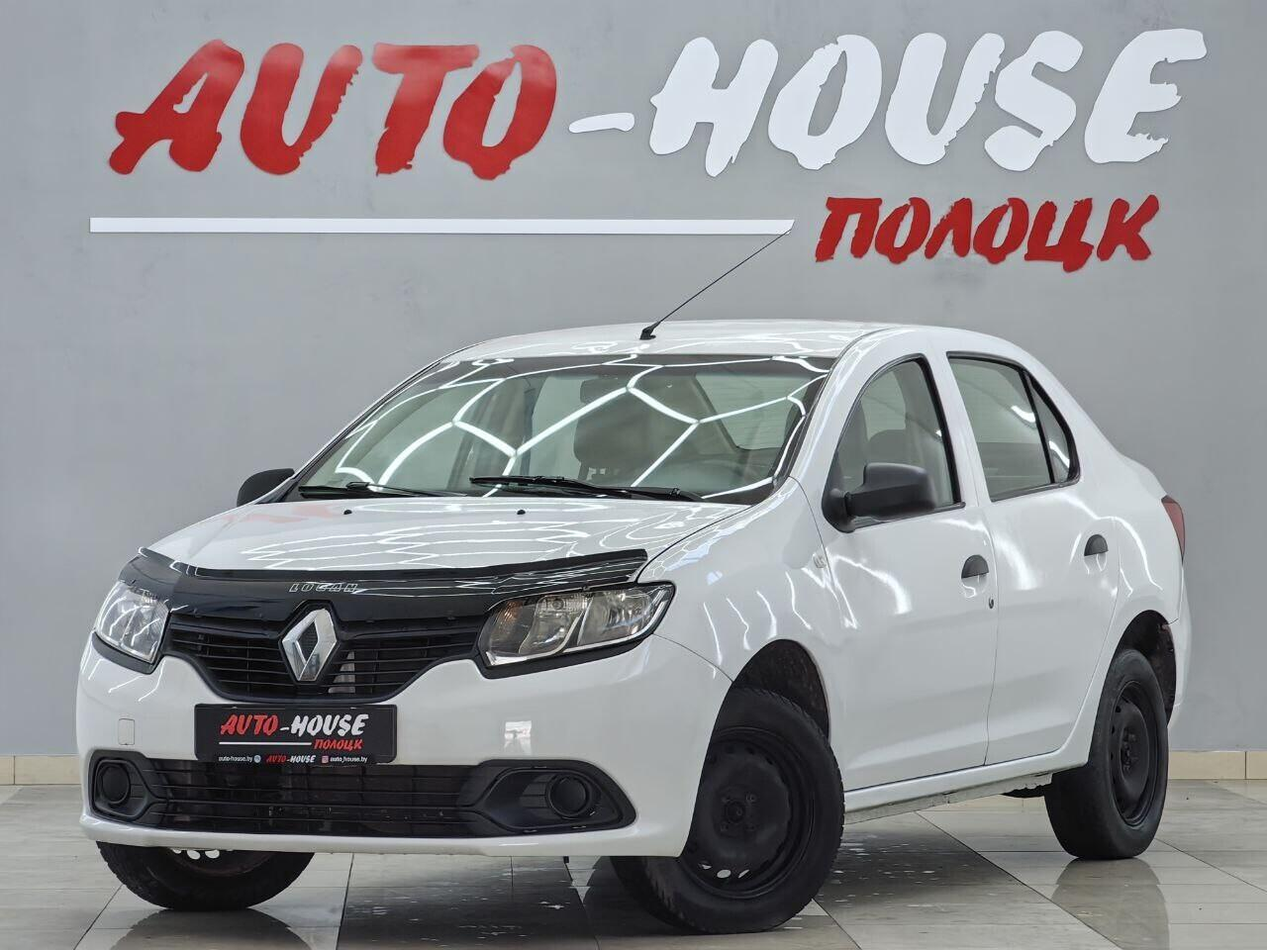Logan_2013-2018: (63, 310, 1200, 935)
